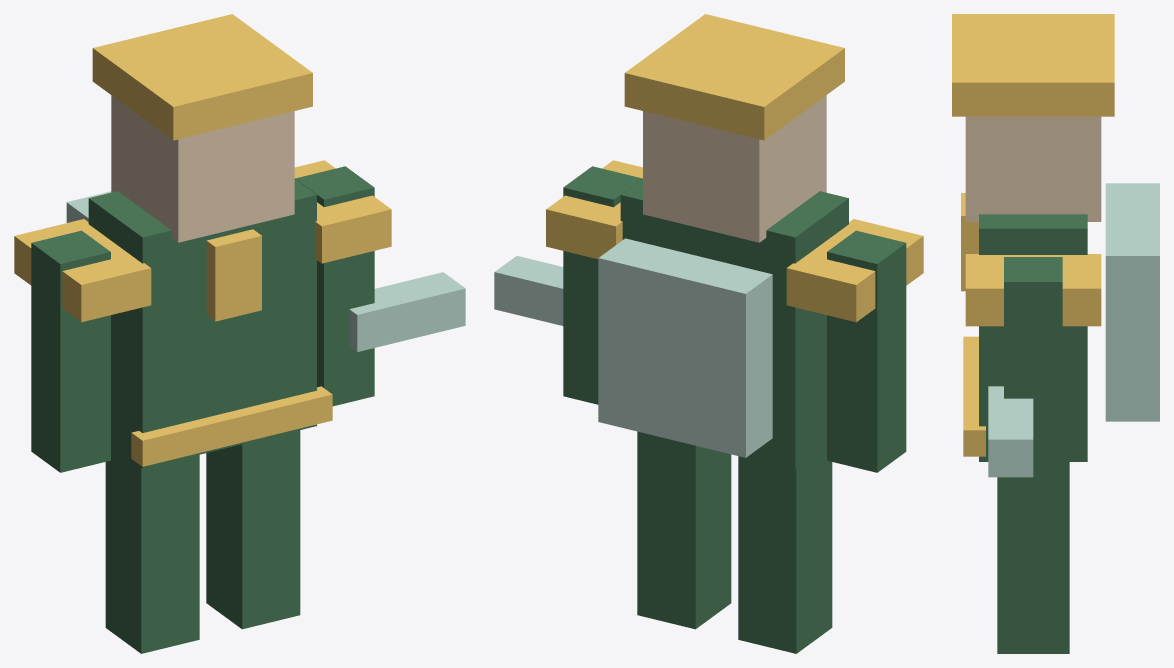
Rendered from 02_astra_deepwell_warden_of.glb.
The picture shows the model from 3 angles, left to right: view 1: azimuth 30°, elevation 25°; view 2: azimuth 150°, elevation 25°; view 3: azimuth 270°, elevation 25°; orthographic projection.
Parts seen in each view (by area): view 1: Astra Deepwell, Warden of; view 2: Astra Deepwell, Warden of; view 3: Astra Deepwell, Warden of.
Part boxes in pixels (<box>): Astra Deepwell, Warden of: <box>14,14,465,653</box>; Astra Deepwell, Warden of: <box>494,14,923,653</box>; Astra Deepwell, Warden of: <box>952,14,1159,653</box>.
Bounding box in the file's own units: 1.1 × 1.49 × 0.4951.
